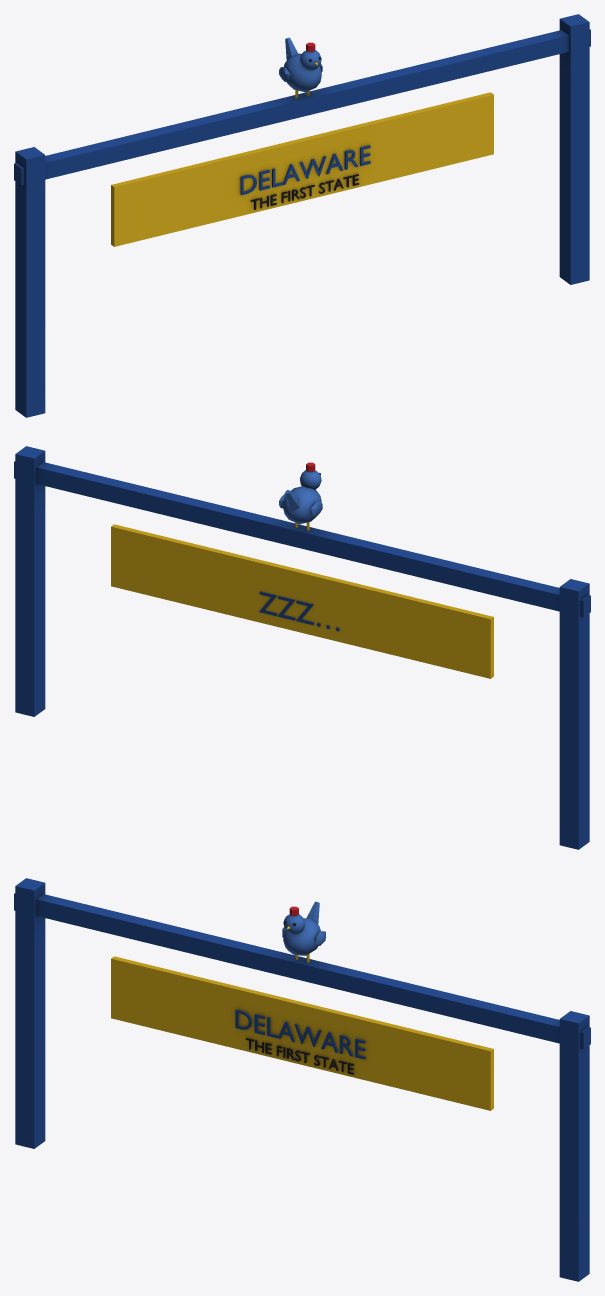
The model's file is arco_first_state.glb.
The picture shows the model from 3 angles, top to bottom: view 1: azimuth 30°, elevation 25°; view 2: azimuth 150°, elevation 25°; view 3: azimuth 330°, elevation 25°; orthographic projection.
Visible parts, largest first — view 1: arco_first_state; view 2: arco_first_state; view 3: arco_first_state.
Part boxes in pixels (x1,y1,x2,y2): arco_first_state: (14,14,590,417); arco_first_state: (14,446,590,849); arco_first_state: (14,878,590,1281).
Size of the model in its own units: 18 by 9.26 by 1.73.
1 material, 1 textured.
